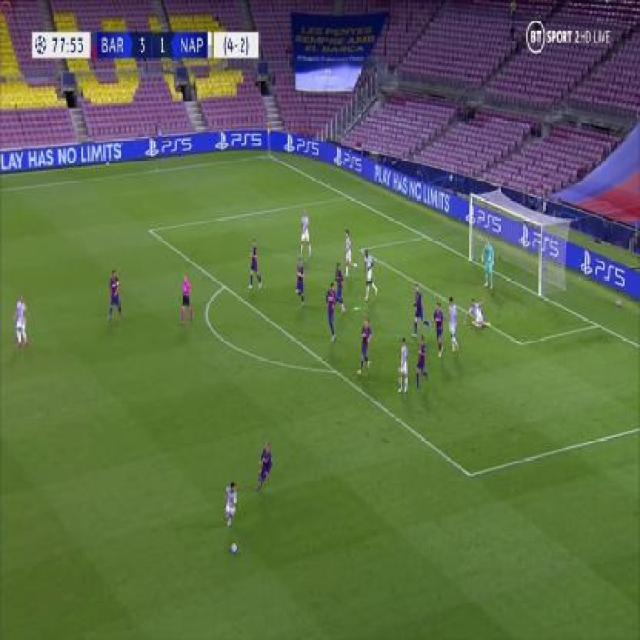ball: (230, 539, 239, 553)
player: (356, 315, 375, 375), (105, 267, 124, 321), (410, 284, 429, 338), (13, 292, 30, 349), (323, 280, 339, 340), (256, 439, 273, 495), (413, 335, 430, 391), (362, 248, 379, 301), (178, 271, 195, 324), (466, 296, 491, 332), (247, 236, 263, 289), (331, 259, 347, 312), (297, 208, 313, 261), (397, 335, 411, 395), (223, 479, 239, 530), (447, 296, 461, 353), (341, 228, 357, 276), (482, 238, 496, 291), (432, 301, 445, 357), (295, 256, 308, 307)
